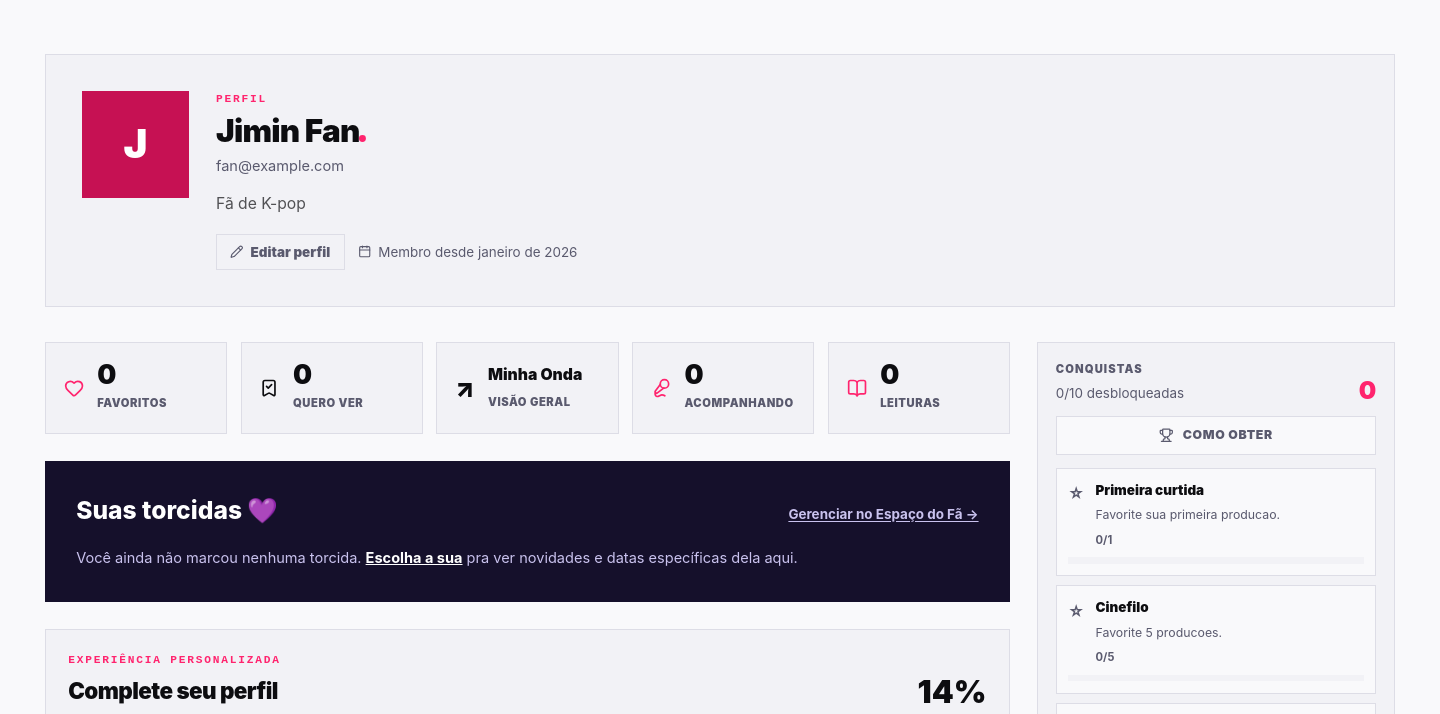
Test: PerfilClient › mostra mensagem de erro quando o salvamento falha (permanece em edição)
The width and height of the screenshot is (1440, 714).
Click the button "Editar perfil".
click(280, 252)  # box [216,234,345,270]
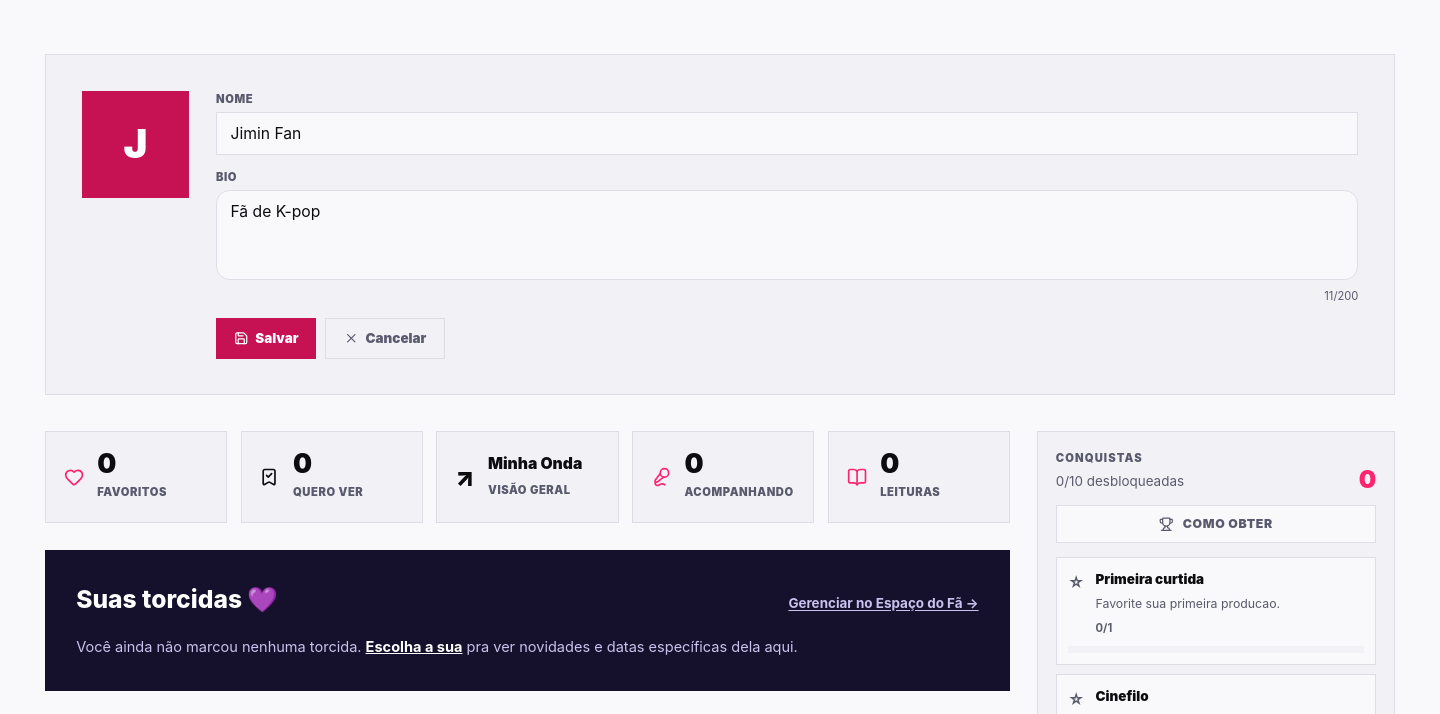
Click the button "Salvar".
click(266, 339)  # box [216,318,316,359]
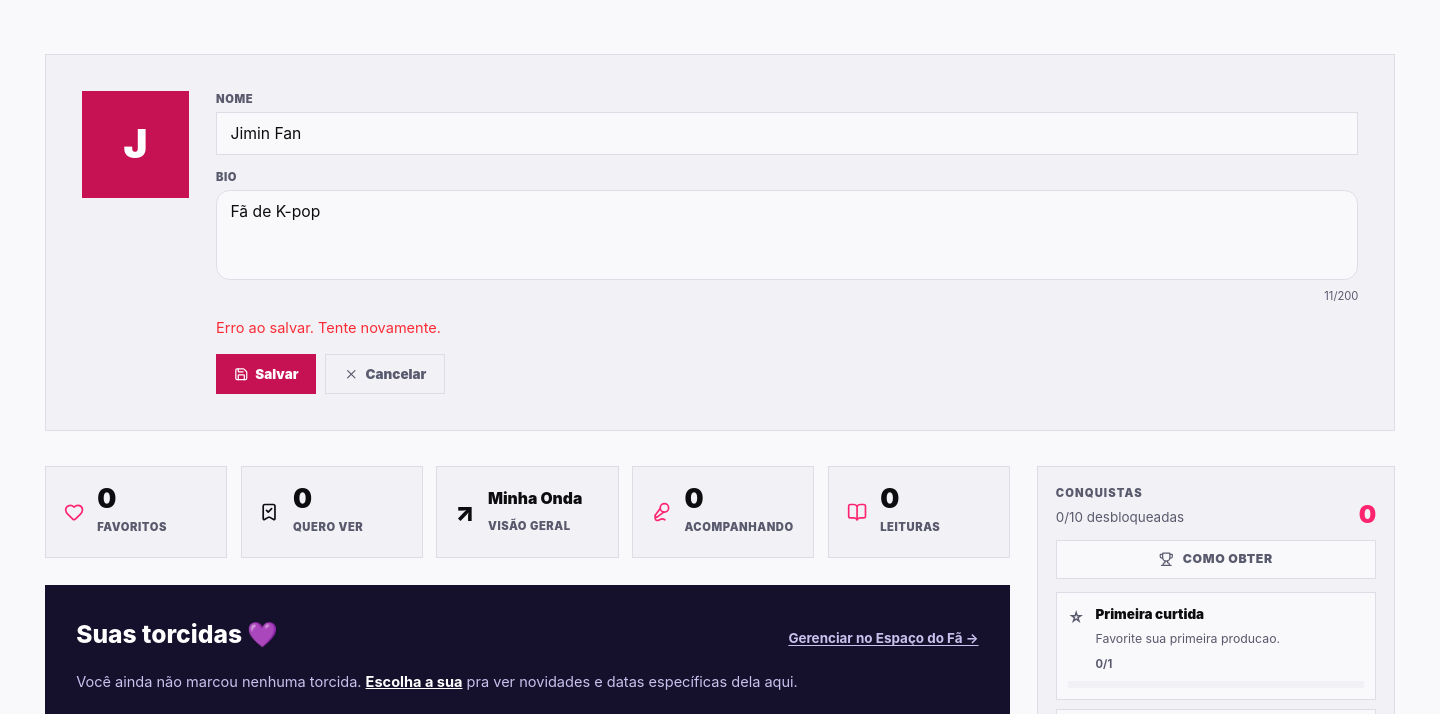
Check: the field labelled "Nome" is shown, box [216,112,1358,155]
Check: the text "Erro ao salvar. Tente novamente." is shown, box [216,320,441,338]
